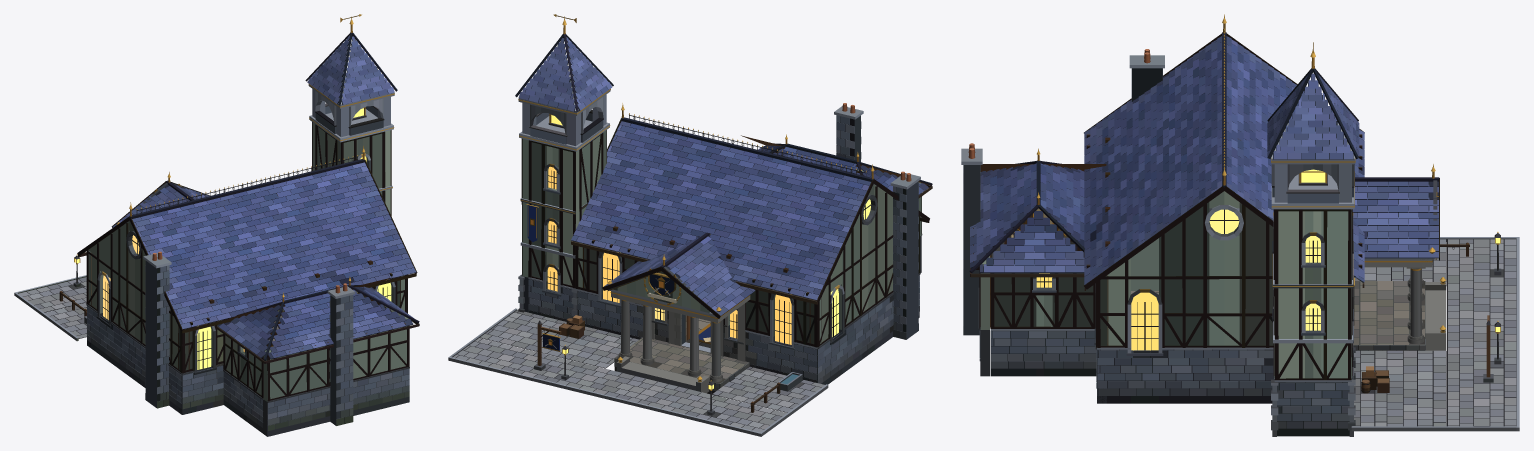
The model's file is guild.glb.
3 renders of one model, left to right at view 1: azimuth 30°, elevation 25°; view 2: azimuth 150°, elevation 25°; view 3: azimuth 270°, elevation 25°, orthographic. The views are drawn at different scales.
Parts seen in each view (by area): view 1: GuildRoof, GuildShell, GuildYard, GuildTrim; view 2: GuildShell, GuildRoof, GuildYard, GuildTrim; view 3: GuildShell, GuildRoof, GuildYard, GuildTrim, GuildGlow.
Part boxes in pixels (bbox=[...]): GuildRoof: bbox=[77, 32, 419, 363]; GuildShell: bbox=[86, 72, 409, 436]; GuildYard: bbox=[14, 254, 86, 341]; GuildTrim: bbox=[116, 14, 394, 224]; GuildShell: bbox=[518, 76, 922, 396]; GuildRoof: bbox=[515, 34, 932, 318]; GuildYard: bbox=[448, 308, 828, 436]; GuildTrim: bbox=[518, 14, 750, 382]; GuildShell: bbox=[961, 49, 1446, 436]; GuildRoof: bbox=[969, 14, 1439, 290]; GuildYard: bbox=[1351, 232, 1519, 431]; GuildTrim: bbox=[1271, 42, 1445, 332]; GuildGlow: bbox=[1209, 169, 1500, 331].
Bounding box in the file's own units: 39.05 × 35.45 × 47.75.
